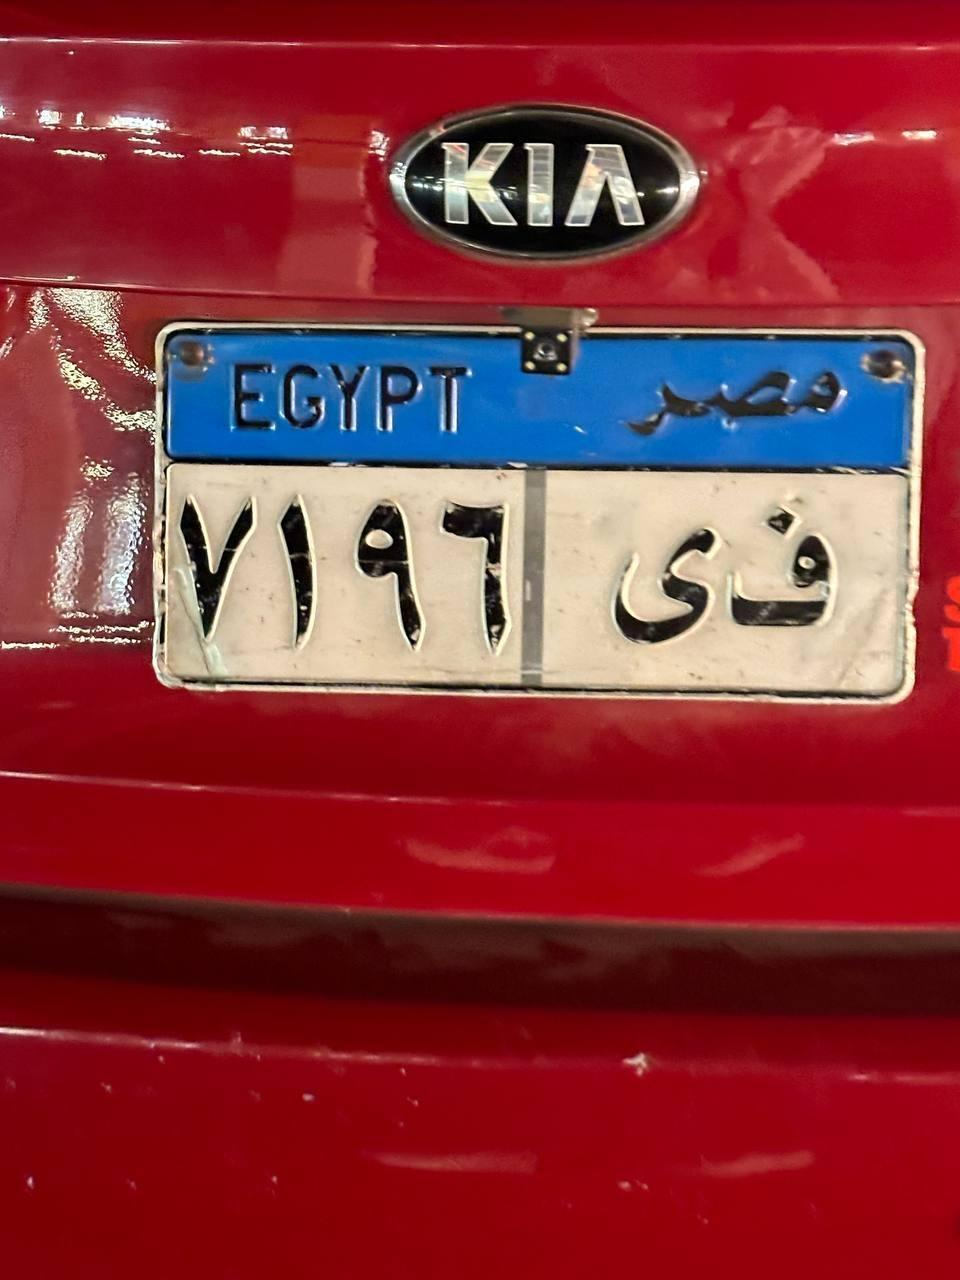1: (261, 474, 338, 646)
6: (437, 480, 533, 648)
7: (173, 498, 253, 642)
9: (347, 492, 428, 643)
F: (723, 504, 833, 653)
License Plate: (148, 308, 925, 702)
Yeeh: (616, 504, 726, 656)
